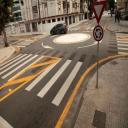Rotatoria: (92, 26, 105, 42)
preferencia: (90, 0, 108, 25)
